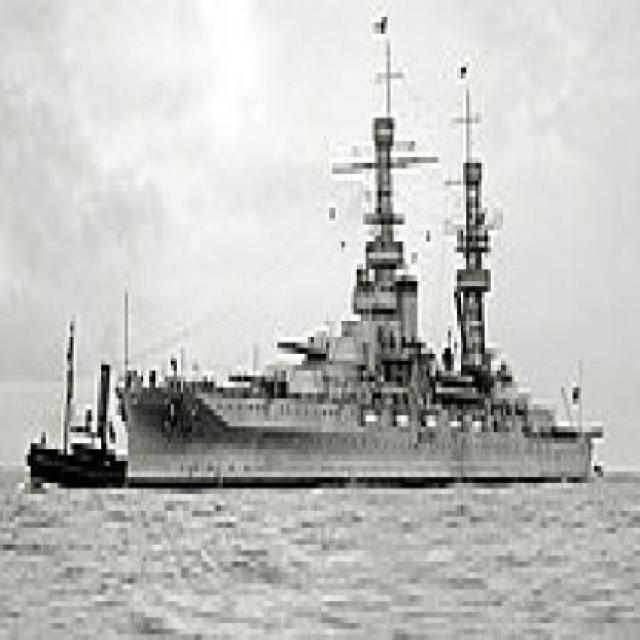warship2: (123, 12, 607, 495)
